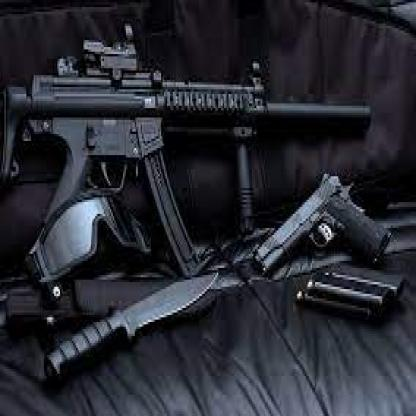Gun: (1, 21, 372, 279)
Knife: (44, 271, 224, 382)
Pistol: (252, 170, 394, 281)
